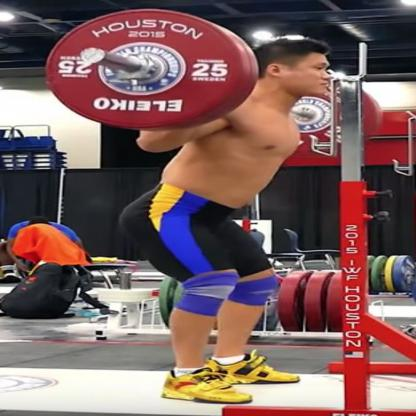Barbell: (38, 6, 273, 138)
